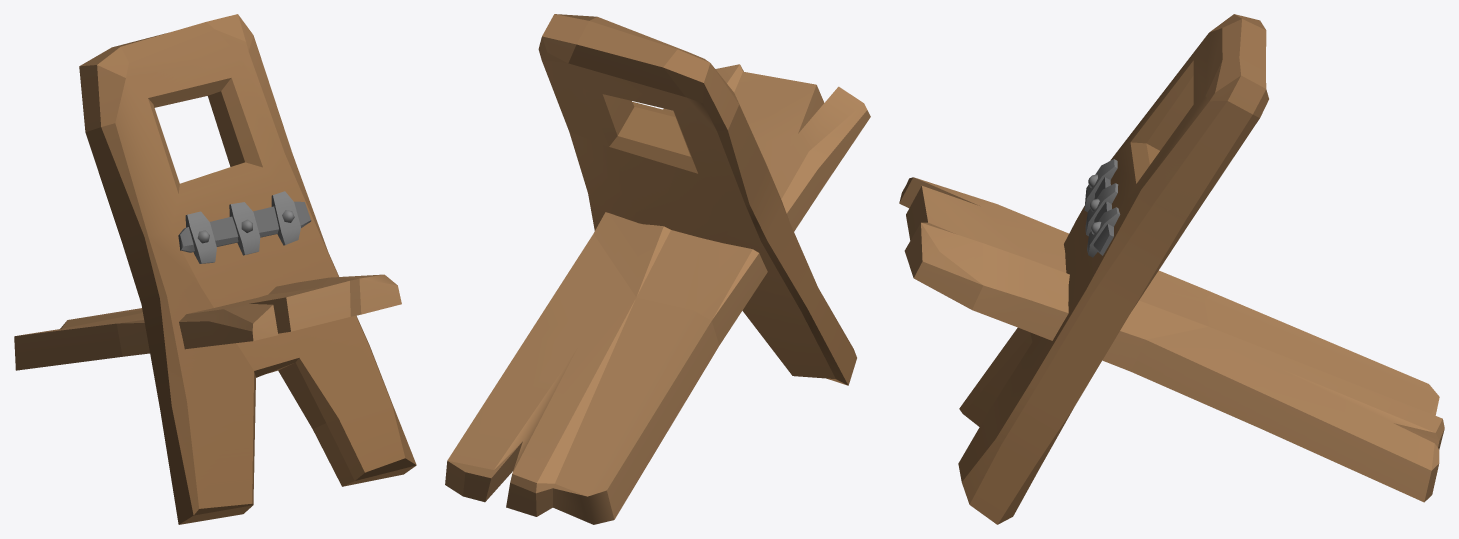
Rendered from BlacksmithTool_F.fbx.
3 renders of one model, left to right at view 1: azimuth 30°, elevation 25°; view 2: azimuth 150°, elevation 25°; view 3: azimuth 270°, elevation 25°, orthographic. The views are drawn at different scales.
Parts seen in each view (by area): view 1: BlacksmithTool_F; view 2: BlacksmithTool_F; view 3: BlacksmithTool_F.
Part boxes in pixels (box(x1,y1,x2,y2)): BlacksmithTool_F: box(14, 14, 416, 524); BlacksmithTool_F: box(445, 14, 870, 524); BlacksmithTool_F: box(899, 14, 1444, 524).
Size of the model in its own units: 61.2 by 104 by 121.
